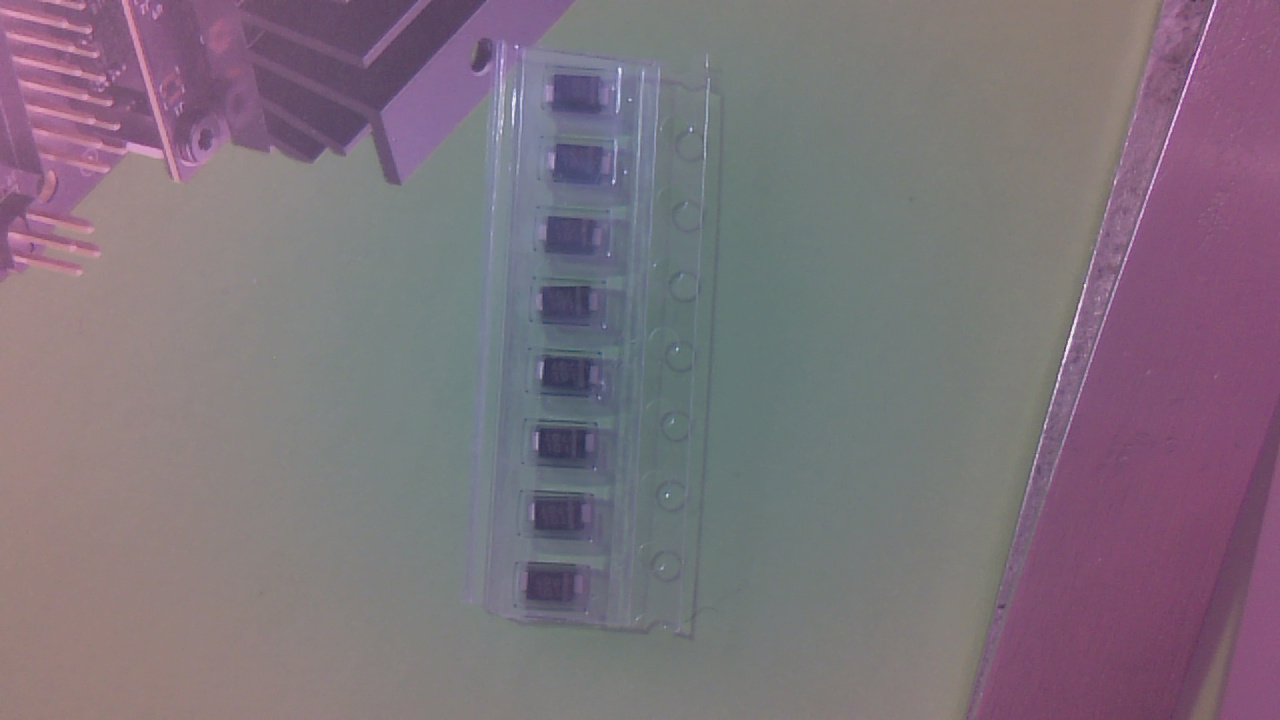Diode: (549, 78, 616, 120), (533, 497, 601, 538), (536, 427, 603, 467), (525, 569, 593, 607), (550, 149, 617, 187), (544, 221, 610, 258), (542, 361, 607, 398), (536, 289, 604, 323)
